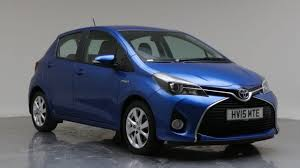Toyota: (34, 27, 277, 141)
